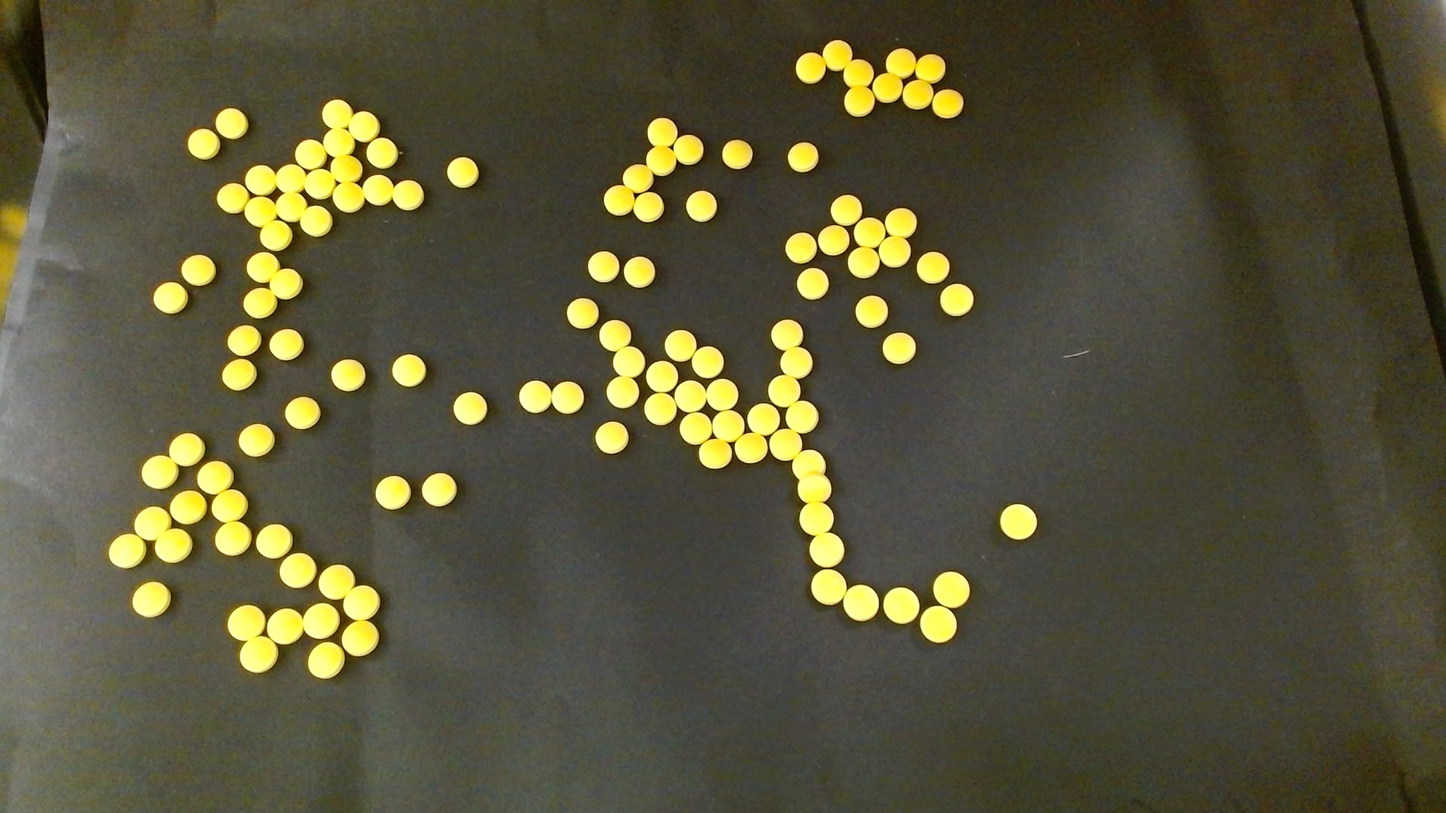Circle: (997, 502, 1039, 543), (131, 580, 171, 618), (933, 571, 970, 608), (239, 637, 277, 673), (920, 607, 956, 644), (308, 641, 344, 678), (341, 620, 378, 656), (279, 553, 316, 589), (227, 604, 265, 639), (154, 528, 192, 563), (237, 423, 274, 458), (109, 534, 146, 569), (255, 524, 292, 559), (214, 521, 251, 556), (883, 587, 918, 623), (811, 569, 846, 605), (169, 432, 205, 467), (141, 455, 178, 489), (133, 506, 170, 540), (375, 475, 410, 510), (939, 282, 974, 317), (268, 609, 303, 644), (318, 565, 354, 599), (197, 460, 233, 494), (344, 585, 380, 619), (421, 473, 456, 507), (843, 586, 877, 621), (171, 490, 206, 524), (152, 282, 188, 315), (212, 489, 248, 522), (453, 391, 487, 425), (810, 533, 844, 567), (391, 354, 426, 387), (799, 501, 834, 534), (304, 602, 337, 637), (331, 358, 365, 391), (594, 421, 628, 454), (284, 397, 319, 429), (221, 359, 256, 391), (518, 380, 551, 413), (748, 403, 781, 436), (706, 378, 739, 411), (181, 254, 215, 286), (270, 329, 304, 361), (606, 376, 639, 408), (269, 268, 302, 300), (215, 182, 248, 214), (331, 180, 364, 212), (664, 329, 697, 361), (680, 413, 713, 445), (674, 379, 706, 412), (882, 333, 916, 364), (227, 324, 261, 355), (856, 295, 888, 327), (215, 107, 247, 139), (796, 267, 828, 299), (917, 251, 949, 283), (551, 381, 583, 413), (847, 245, 879, 277), (644, 393, 676, 425), (712, 409, 744, 441), (798, 473, 831, 504), (246, 251, 279, 282), (645, 145, 678, 176), (779, 346, 813, 376), (623, 256, 654, 288), (392, 179, 424, 210), (566, 297, 597, 329), (599, 319, 631, 350), (259, 219, 291, 250), (362, 175, 394, 206), (879, 235, 911, 266), (347, 111, 379, 142), (873, 72, 904, 104), (323, 126, 355, 157), (769, 429, 801, 460), (698, 438, 731, 468), (243, 288, 276, 318), (299, 206, 332, 236), (768, 376, 801, 406), (793, 449, 826, 479), (685, 190, 716, 221), (187, 128, 218, 159), (587, 251, 618, 282), (244, 196, 275, 227), (276, 190, 307, 221), (795, 51, 825, 83), (691, 346, 723, 376), (734, 433, 766, 463), (645, 361, 677, 391), (294, 139, 326, 169), (447, 157, 478, 187), (721, 139, 752, 169), (602, 185, 633, 215), (771, 319, 802, 349), (901, 78, 932, 108), (366, 138, 397, 168), (786, 400, 816, 431), (853, 217, 884, 247), (613, 346, 644, 376), (330, 153, 362, 182), (932, 88, 962, 118), (844, 86, 874, 116), (633, 191, 663, 221), (786, 233, 816, 263), (822, 39, 852, 69), (673, 134, 703, 164), (831, 194, 861, 224), (322, 99, 352, 129), (245, 164, 275, 194), (304, 169, 334, 199), (276, 163, 306, 193), (886, 47, 915, 78), (844, 59, 873, 90), (622, 163, 653, 192), (788, 142, 817, 172), (915, 53, 945, 82), (647, 117, 677, 146), (885, 207, 915, 236), (818, 224, 847, 254)
